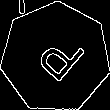P_SW: (25, 26, 86, 89)
